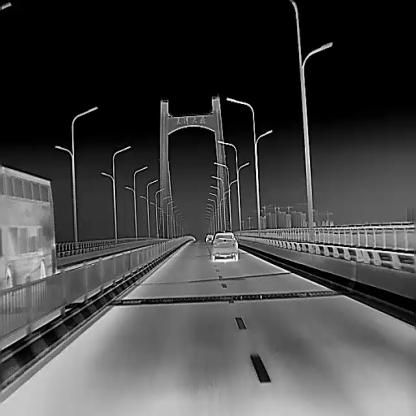bus: (0, 165, 53, 296)
car: (211, 231, 238, 260), (206, 233, 212, 242)
